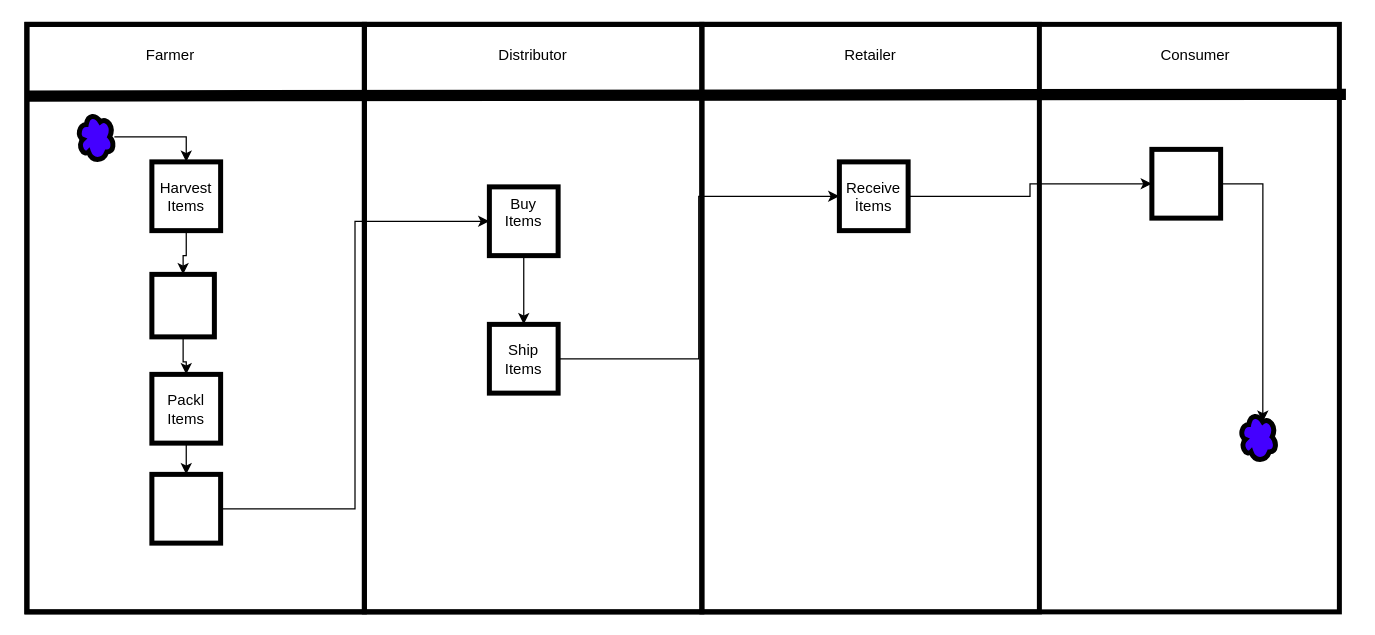
Some shapes in this 1375 by 635 pixel diagram are drawn without their labels. The shapes that lost their labels are listed below. From the top down, each one's centre as x and y in pixels, then its label:
the point at 1185,183: Purchase Items
the point at 182,305: Process Items
the point at 185,508: Add Items
